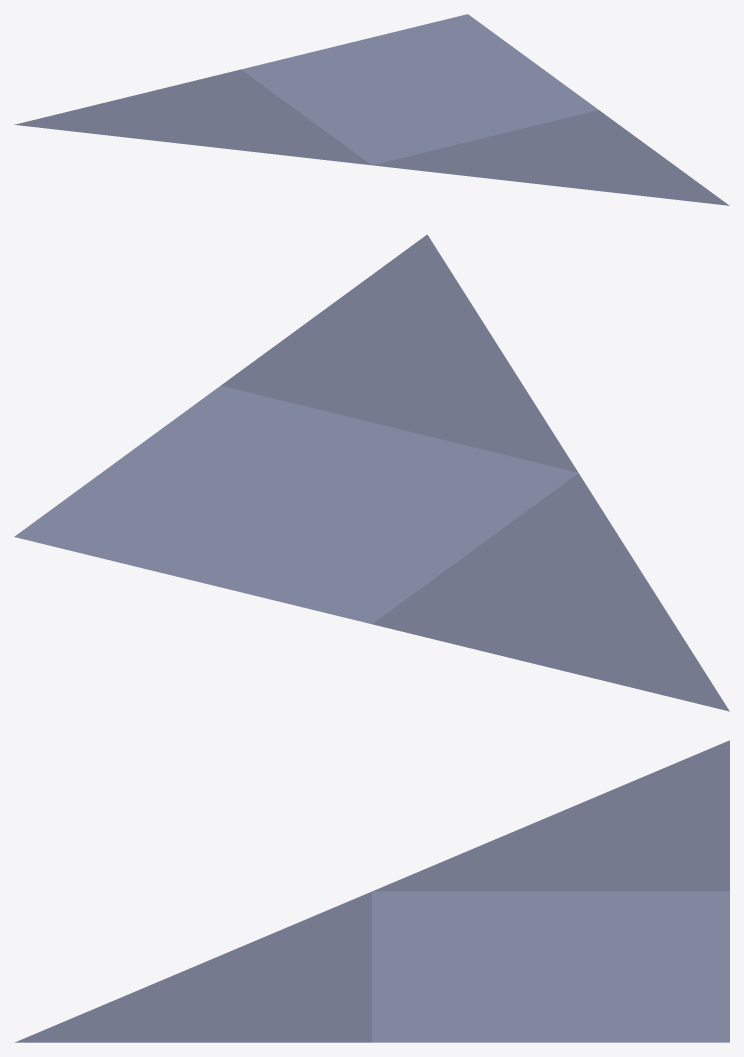
The model's file is floor-diagonal.fbx.
3 renders of one model, top to bottom at view 1: azimuth 30°, elevation 25°; view 2: azimuth 150°, elevation 25°; view 3: azimuth 270°, elevation 25°, orthographic. The views are drawn at different scales.
Visible parts, largest first — view 1: floor-diagonal; view 2: floor-diagonal; view 3: floor-diagonal.
Part boxes in pixels (x1,y1,x2,y2): floor-diagonal: (14, 14, 729, 205); floor-diagonal: (14, 234, 729, 711); floor-diagonal: (15, 740, 729, 1042).
Bounding box in the file's own units: 100 × 0 × 100.
